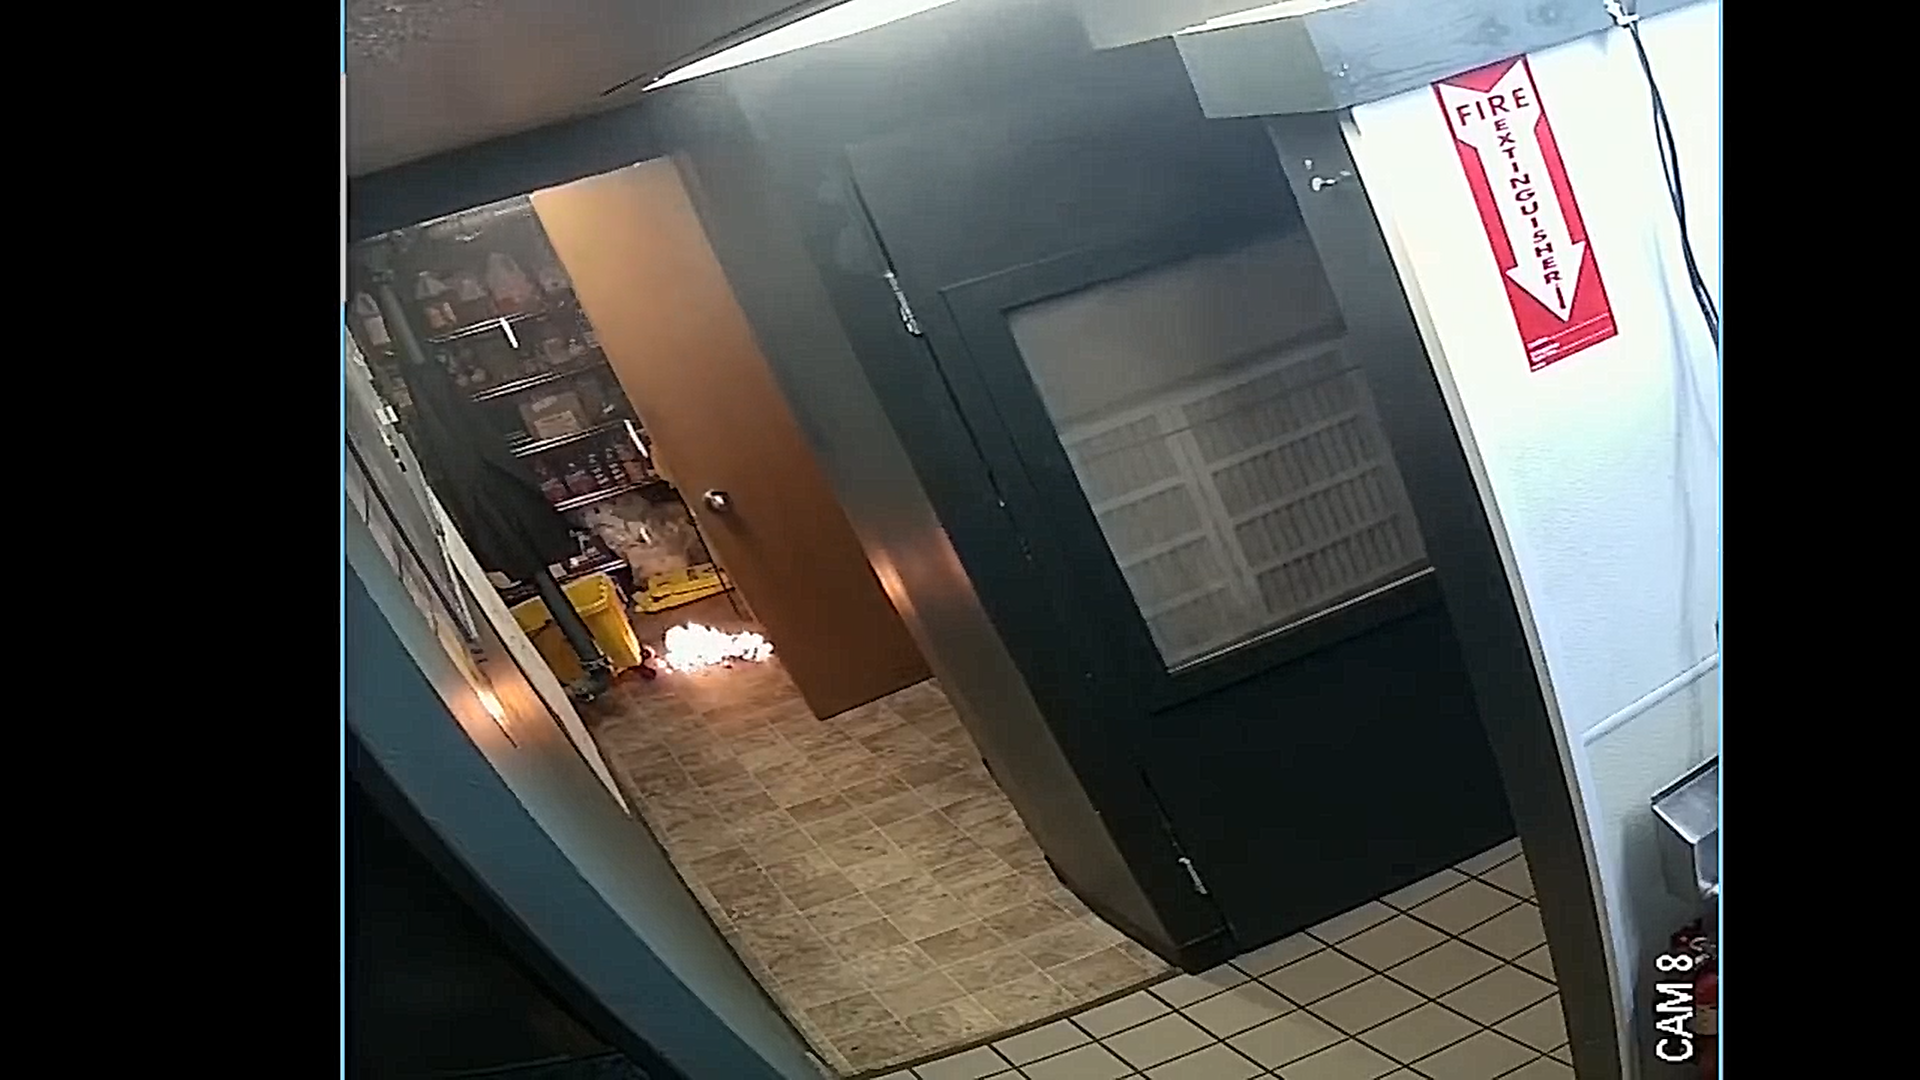fire: (638, 609, 783, 683)
